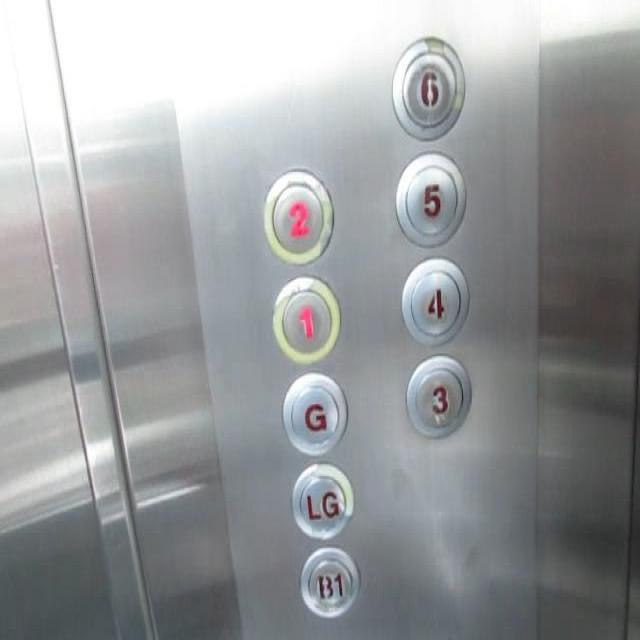1: (269, 272, 340, 367)
2: (259, 166, 334, 266)
3: (403, 351, 471, 437)
4: (399, 254, 468, 346)
5: (391, 148, 467, 248)
6: (391, 28, 466, 143)
B1: (298, 542, 360, 618)
G: (278, 368, 346, 457)
LG: (287, 457, 354, 540)
